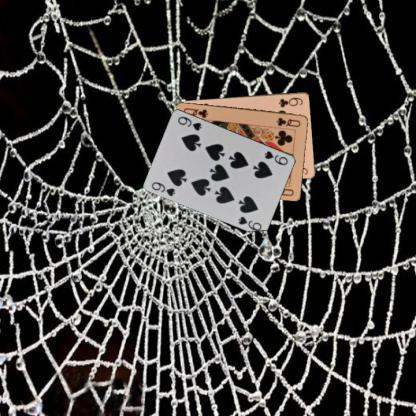6c: (276, 95, 304, 108)
9s: (149, 179, 177, 198), (262, 148, 289, 166)
Qc: (274, 114, 301, 128)
